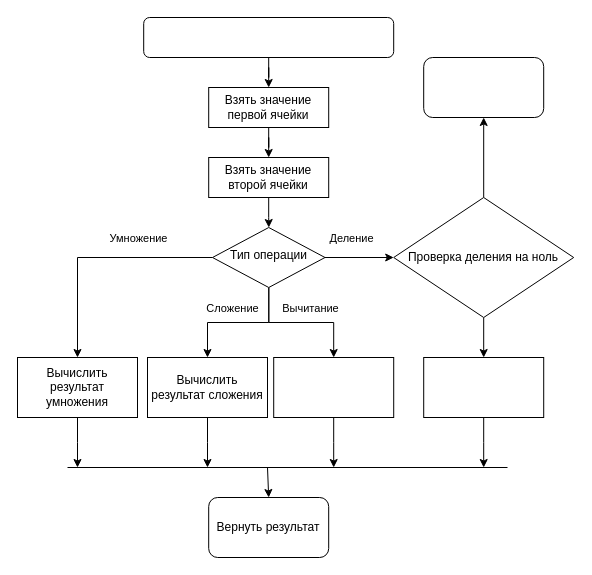
Image size: 592x575. Some labels were removed from this diagram. The shapes that lost their labels are listed below. From the top down, each one's centre as x and y in pixels, then its label:
[268,37]: Value Evaluate(const SheetInterface& sheet)
[483,87]: #ARITM!
[333,387]: Вычислить результат вычитания
[483,387]: Вычислить результат деления
